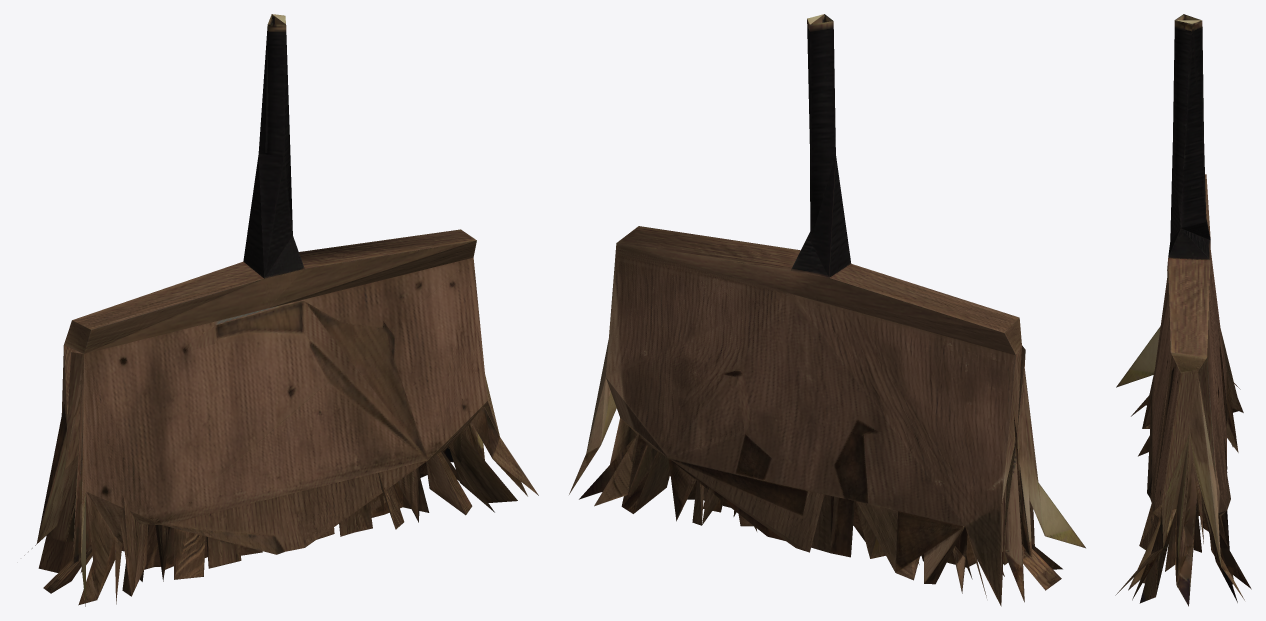
The model's file is IT_Mop.fbx.
3 renders of one model, left to right at view 1: azimuth 30°, elevation 25°; view 2: azimuth 150°, elevation 25°; view 3: azimuth 270°, elevation 25°, orthographic. The views are drawn at different scales.
Visible parts, largest first — view 1: Mesh_0; view 2: Mesh_0; view 3: Mesh_0.
Boxes of the visible parts, x1=… form: Mesh_0: x1=24, y1=14, x2=538, y2=606; Mesh_0: x1=569, y1=14, x2=1085, y2=606; Mesh_0: x1=1115, y1=14, x2=1251, y2=606.
Size of the model in its own units: 175 by 190 by 48.12.
Materials: 1 (1 with a texture image).
